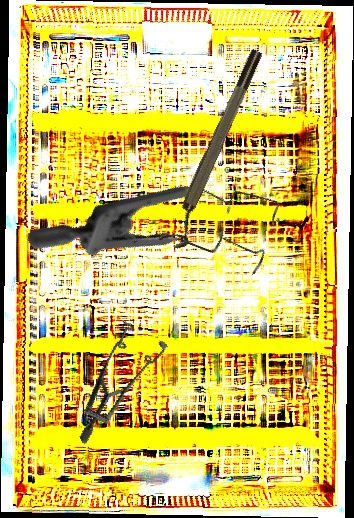Fixation Ring: (158, 46, 275, 253)
Speculum: (24, 107, 305, 369), (42, 308, 191, 446)
